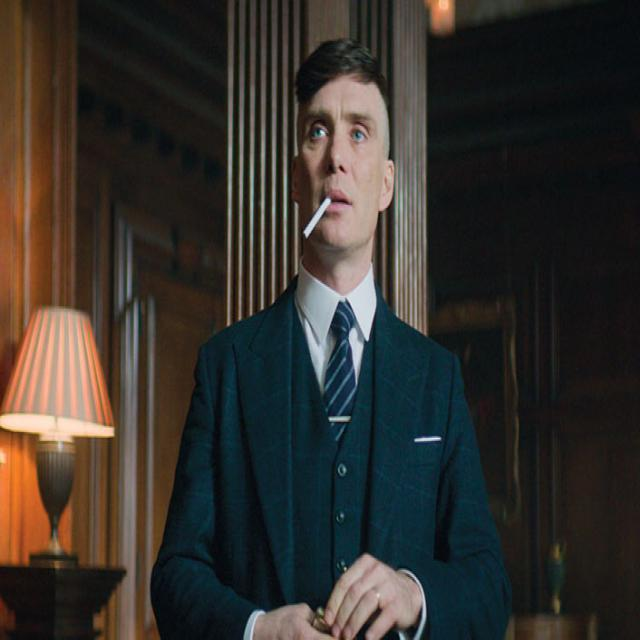smoke: (296, 185, 337, 262)
